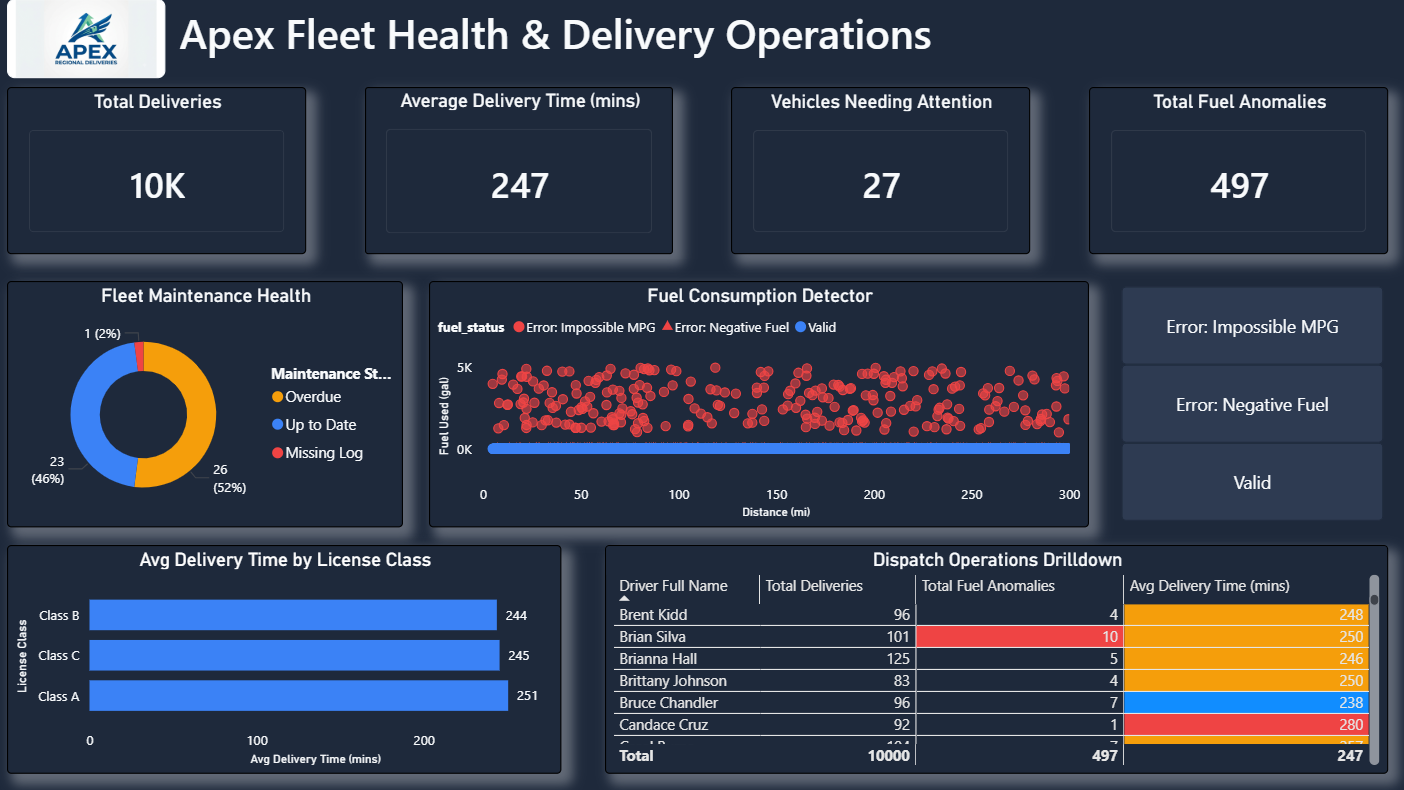

Layout of this report page (visuals, bound fields, positions):
{"tool":"powerbi","page":{"name":"Page 1","canvas":[1280,720],"ordinal":0},"visuals":[{"type":"textbox","box":[160,0,736,72],"z":0},{"type":"cardVisual","title":"Total Deliveries","fields":{"Data":["delivery_routes_clean.Total Deliveries"]},"box":[8,80,272,152],"z":1000},{"type":"cardVisual","title":"Average Delivery Time  (Mins.)","fields":{"Data":["delivery_routes_clean.Avg Delivery Time (Mins)"]},"box":[333.3,80,280,152],"z":2000},{"type":"cardVisual","title":"Vehicles Needing Attention","fields":{"Data":["vehicles_clean.Vehicles Needing Attention"]},"box":[666.7,80,272,152],"z":3000},{"type":"cardVisual","title":"Total Fuel Anomalies","fields":{"Data":["delivery_routes_clean.Total Fuel Anomalies"]},"box":[992,80,272,152],"z":4000},{"type":"donutChart","title":"Fleet Maintenance Health","fields":{"Category":["vehicles_clean.maintenance_status"],"Y":["CountNonNull(vehicles_clean.vehicle_id)"]},"box":[8,256,360,224],"z":5000},{"type":"scatterChart","title":"Fuel Consumption Detector","fields":{"X":["delivery_routes_clean.distance_miles"],"Y":["delivery_routes_clean.fuel_used_gallons"],"Series":["delivery_routes_clean.fuel_status"]},"box":[392,256,600,224],"z":6000},{"type":"advancedSlicerVisual","title":"Fuel Status","fields":{"Values":["delivery_routes_clean.fuel_status"]},"box":[1016,256,248,224],"z":7000},{"type":"clusteredBarChart","title":"Avg Delivery Time (Mins) by License Class","fields":{"Category":["drivers_clean.license_class"],"Y":["delivery_routes_clean.Avg Delivery Time (Mins)"]},"box":[16,496,504,208],"z":8000},{"type":"pivotTable","title":"Dispatch Operations Drilldown","fields":{"Values":["delivery_routes_clean.Total Deliveries","delivery_routes_clean.Avg Delivery Time (Mins)"],"Rows":["drivers_clean.Driver Full Name"]},"box":[552,496,712,208],"z":8001},{"type":"image","box":[8,0,144,72],"z":8002}]}

Visuals, with their boxes in screenshot pixels (x1, y1, x2, y2), scaled from the page's 1280x720 canvas onto the 1404x790 screenshot:
textbox: {"left": 176, "top": 0, "right": 983, "bottom": 79}
"Total Deliveries" cardVisual: {"left": 9, "top": 88, "right": 307, "bottom": 255}
"Average Delivery Time  (Mins.)" cardVisual: {"left": 366, "top": 88, "right": 673, "bottom": 255}
"Vehicles Needing Attention" cardVisual: {"left": 731, "top": 88, "right": 1030, "bottom": 255}
"Total Fuel Anomalies" cardVisual: {"left": 1088, "top": 88, "right": 1386, "bottom": 255}
"Fleet Maintenance Health" donutChart: {"left": 9, "top": 281, "right": 404, "bottom": 527}
"Fuel Consumption Detector" scatterChart: {"left": 430, "top": 281, "right": 1088, "bottom": 527}
"Fuel Status" advancedSlicerVisual: {"left": 1114, "top": 281, "right": 1386, "bottom": 527}
"Avg Delivery Time (Mins) by License Class" clusteredBarChart: {"left": 18, "top": 544, "right": 570, "bottom": 772}
"Dispatch Operations Drilldown" pivotTable: {"left": 605, "top": 544, "right": 1386, "bottom": 772}
image: {"left": 9, "top": 0, "right": 167, "bottom": 79}
